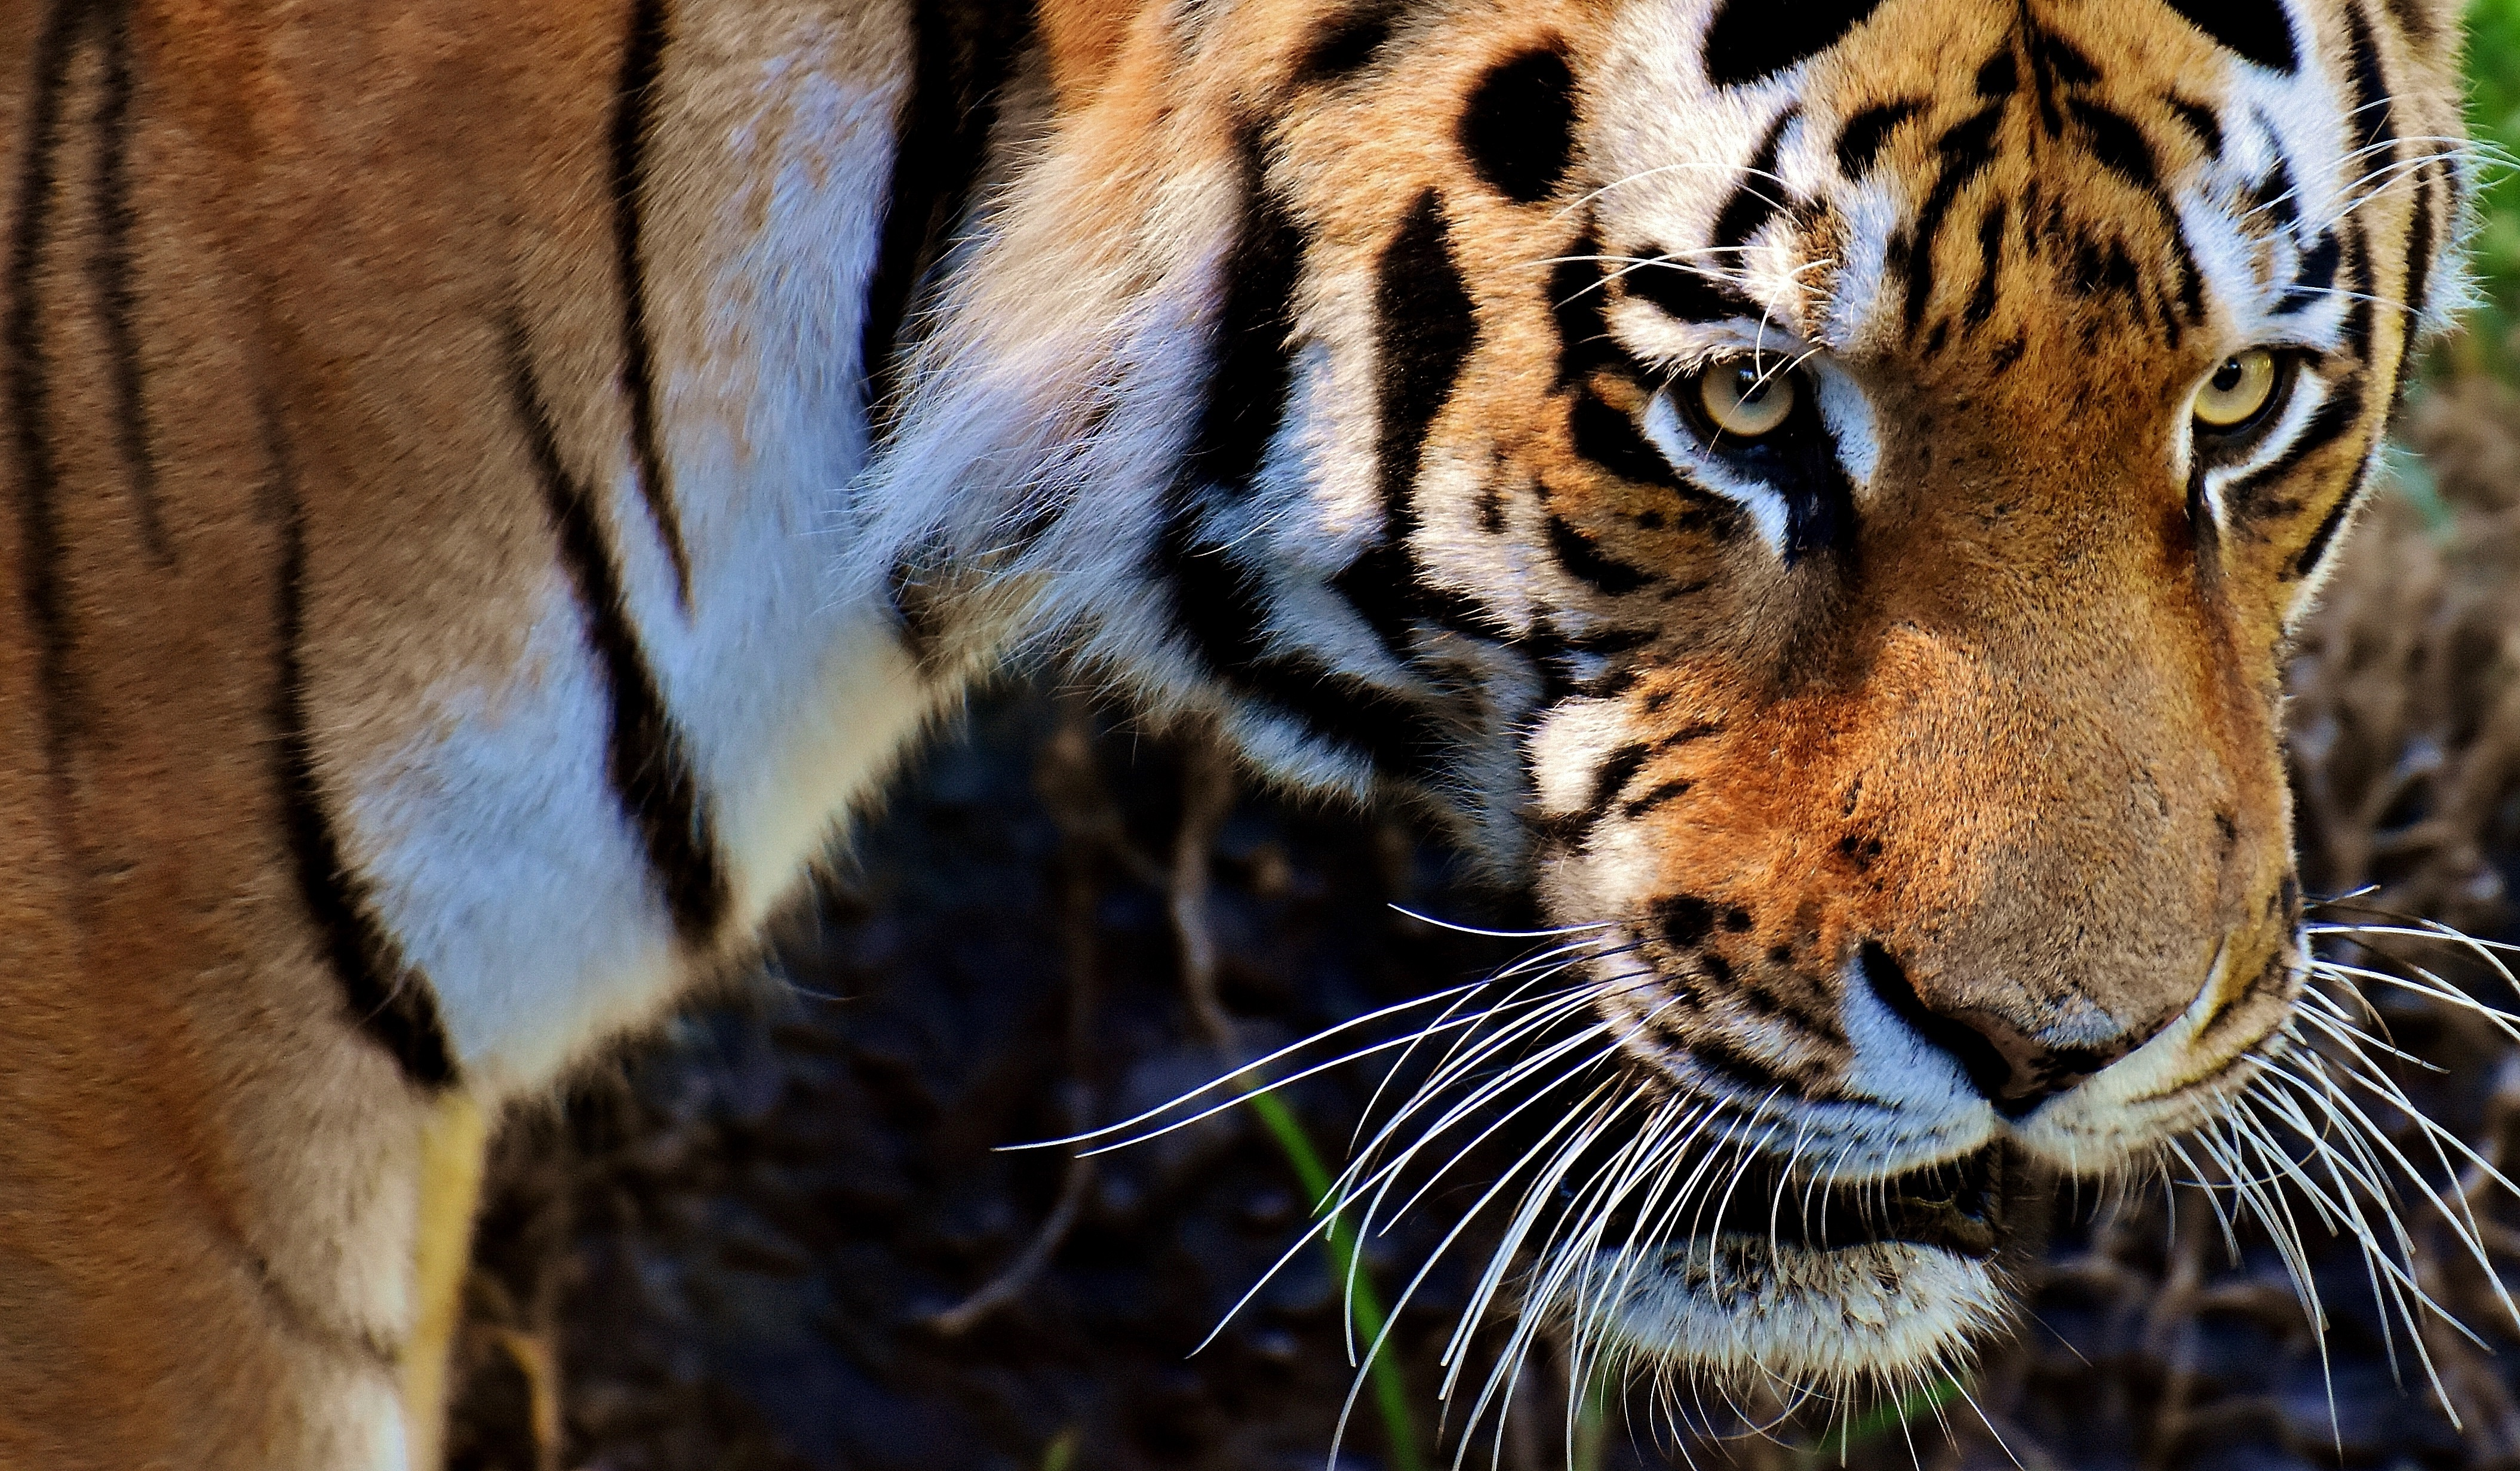tiger: (40, 0, 2434, 1345)
